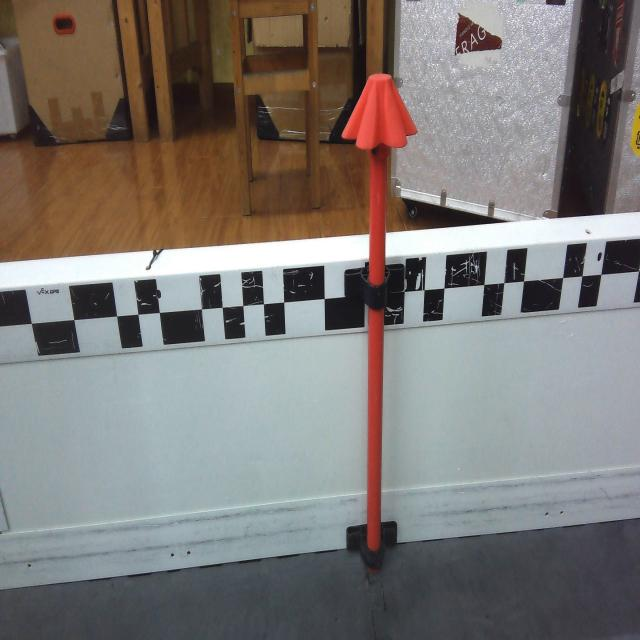zred-Stake-Head: (341, 73, 417, 148)
